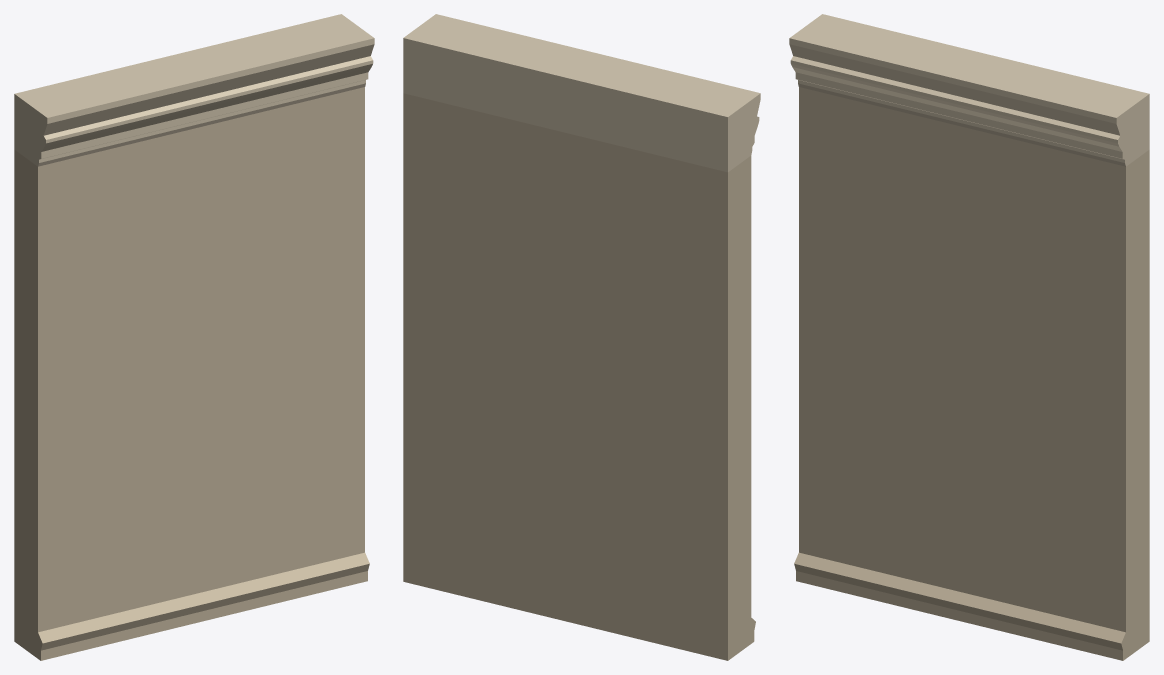
The model's file is T01_Plain_Wall.glb.
3 views of the same model, side by side, from view 1: azimuth 30°, elevation 25°; view 2: azimuth 150°, elevation 25°; view 3: azimuth 330°, elevation 25° (orthographic).
Visible parts, largest first — view 1: T01_Plain_Wall; view 2: T01_Plain_Wall; view 3: T01_Plain_Wall.
Boxes of the visible parts, bbox=[...] form: T01_Plain_Wall: bbox=[14, 14, 374, 660]; T01_Plain_Wall: bbox=[403, 14, 760, 660]; T01_Plain_Wall: bbox=[789, 14, 1149, 660].
Size of the model in its own units: 4 by 6.4 by 0.7.
